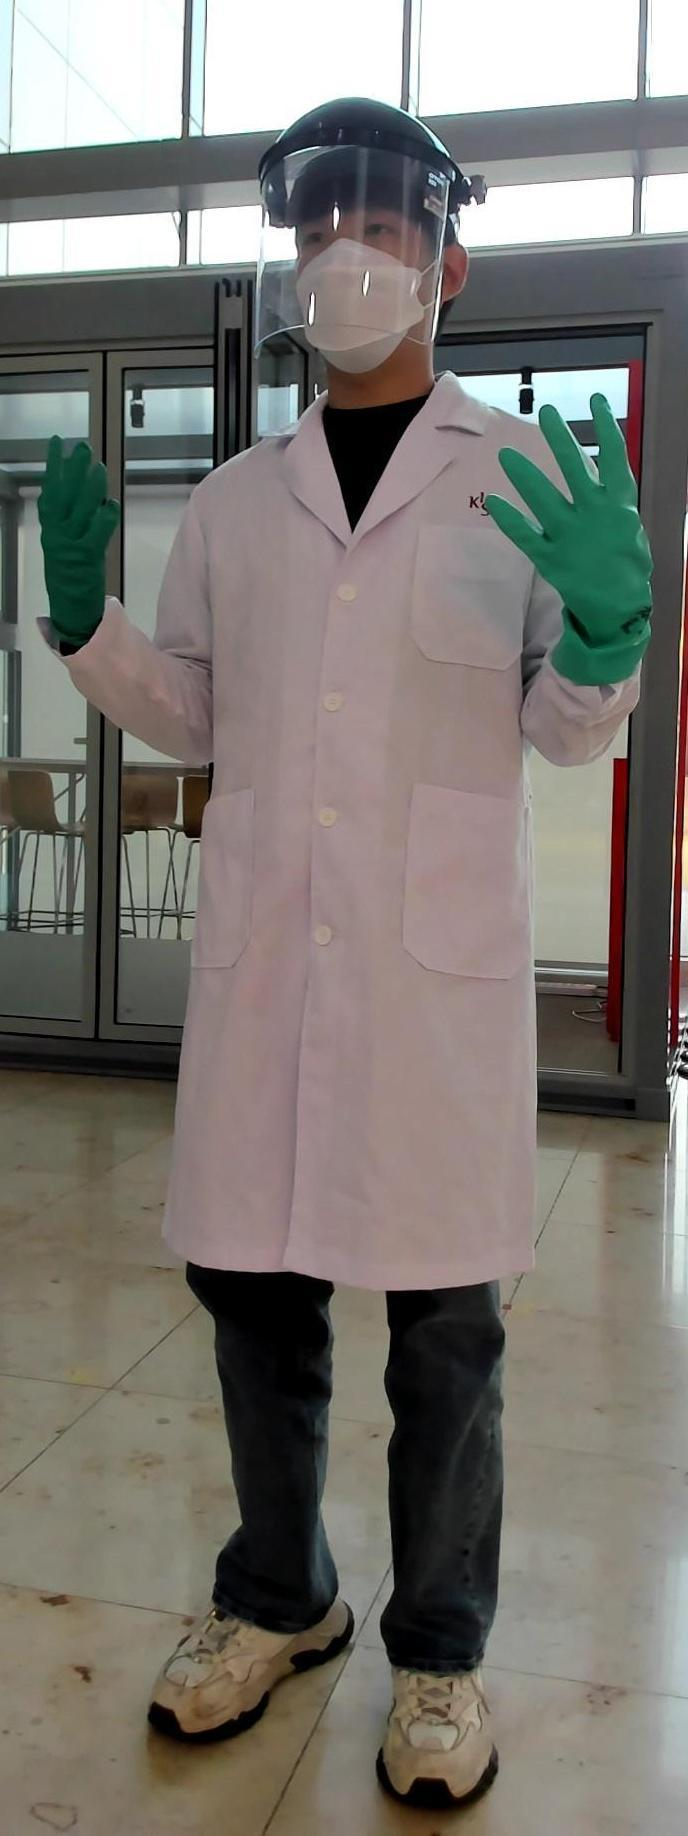lab_coat: (161, 451, 528, 1272)
